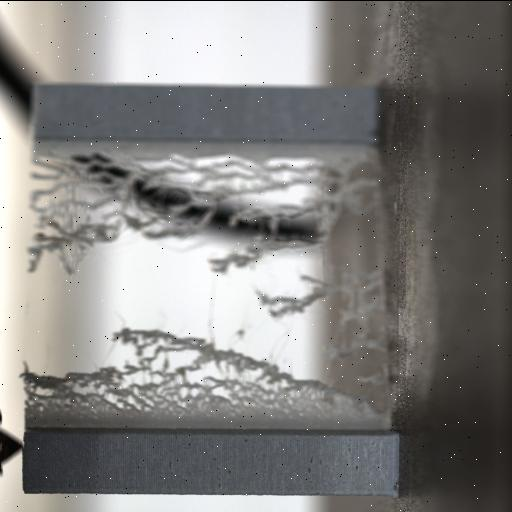stringing: (28, 150, 348, 276), (20, 324, 386, 422)
